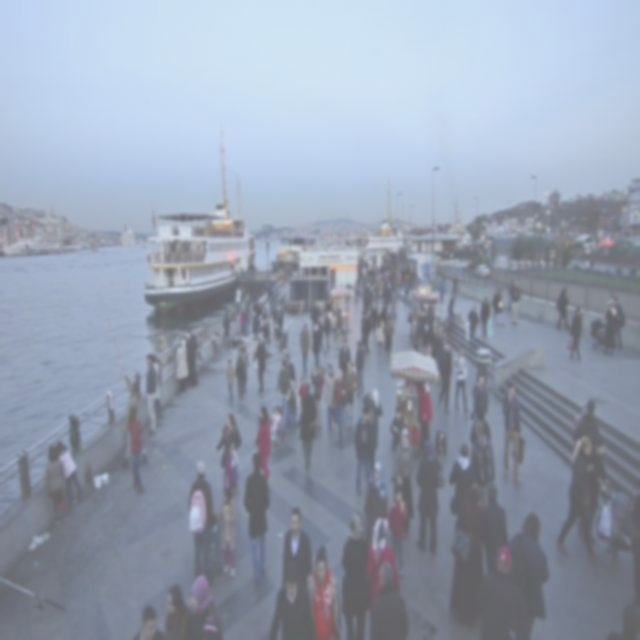pessoa: (554, 433, 600, 564), (448, 482, 488, 630), (508, 511, 551, 638), (219, 276, 287, 354), (606, 486, 640, 638), (364, 516, 402, 623), (242, 451, 272, 586), (414, 438, 446, 558), (354, 249, 412, 315), (340, 512, 370, 639), (187, 458, 215, 590), (479, 544, 517, 639), (306, 544, 342, 639), (268, 565, 313, 639), (368, 560, 408, 639), (479, 478, 509, 576), (280, 506, 314, 590), (500, 381, 526, 487), (120, 380, 150, 468), (588, 438, 611, 546), (316, 292, 352, 360), (363, 458, 390, 546), (216, 411, 243, 498), (189, 573, 223, 639), (353, 404, 376, 497), (54, 438, 84, 508), (387, 481, 408, 579), (393, 426, 415, 518), (361, 386, 384, 474), (44, 442, 68, 526), (216, 484, 236, 579), (298, 380, 318, 475), (128, 406, 148, 496), (163, 581, 194, 639), (469, 418, 496, 482), (570, 396, 602, 447), (165, 230, 213, 264), (254, 402, 273, 486), (331, 366, 349, 446), (389, 405, 406, 483), (448, 440, 471, 495), (452, 344, 470, 414), (417, 380, 433, 455), (132, 604, 166, 639), (437, 337, 452, 415), (144, 351, 158, 434), (342, 358, 360, 422), (566, 306, 584, 362), (602, 298, 618, 358), (150, 354, 164, 422), (310, 364, 324, 429), (472, 372, 490, 422), (573, 402, 590, 454), (184, 330, 199, 388), (174, 338, 189, 394), (324, 363, 336, 433), (285, 378, 300, 434), (252, 336, 266, 394), (236, 338, 250, 394), (431, 324, 444, 384), (613, 294, 626, 352), (466, 300, 481, 350), (274, 357, 291, 399), (353, 338, 365, 396), (556, 286, 571, 332), (185, 326, 198, 378), (508, 278, 522, 326), (233, 353, 246, 403), (413, 312, 427, 356), (431, 324, 442, 379), (300, 323, 312, 373), (478, 296, 491, 342), (424, 304, 436, 352), (338, 336, 352, 376), (361, 306, 372, 356), (296, 374, 309, 414), (384, 312, 396, 355), (225, 357, 235, 408), (420, 306, 430, 356), (311, 322, 321, 372), (374, 312, 384, 362), (269, 404, 282, 442), (446, 290, 457, 334), (422, 318, 434, 356), (284, 352, 297, 383), (370, 298, 380, 338), (494, 289, 504, 327), (359, 309, 368, 351), (436, 270, 447, 304), (490, 286, 500, 322), (450, 270, 460, 300), (506, 276, 514, 311), (440, 328, 448, 363), (309, 361, 318, 388), (311, 296, 317, 330), (244, 262, 256, 278), (411, 262, 417, 290), (323, 358, 329, 364)
